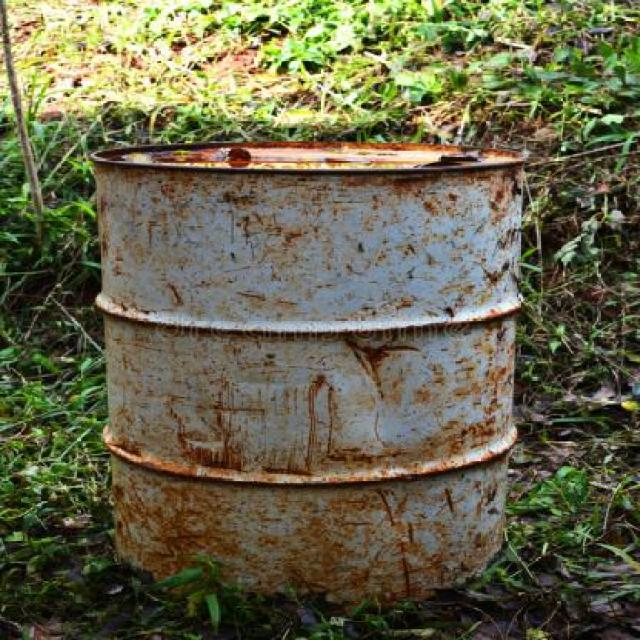corrosion: (100, 137, 514, 606)
